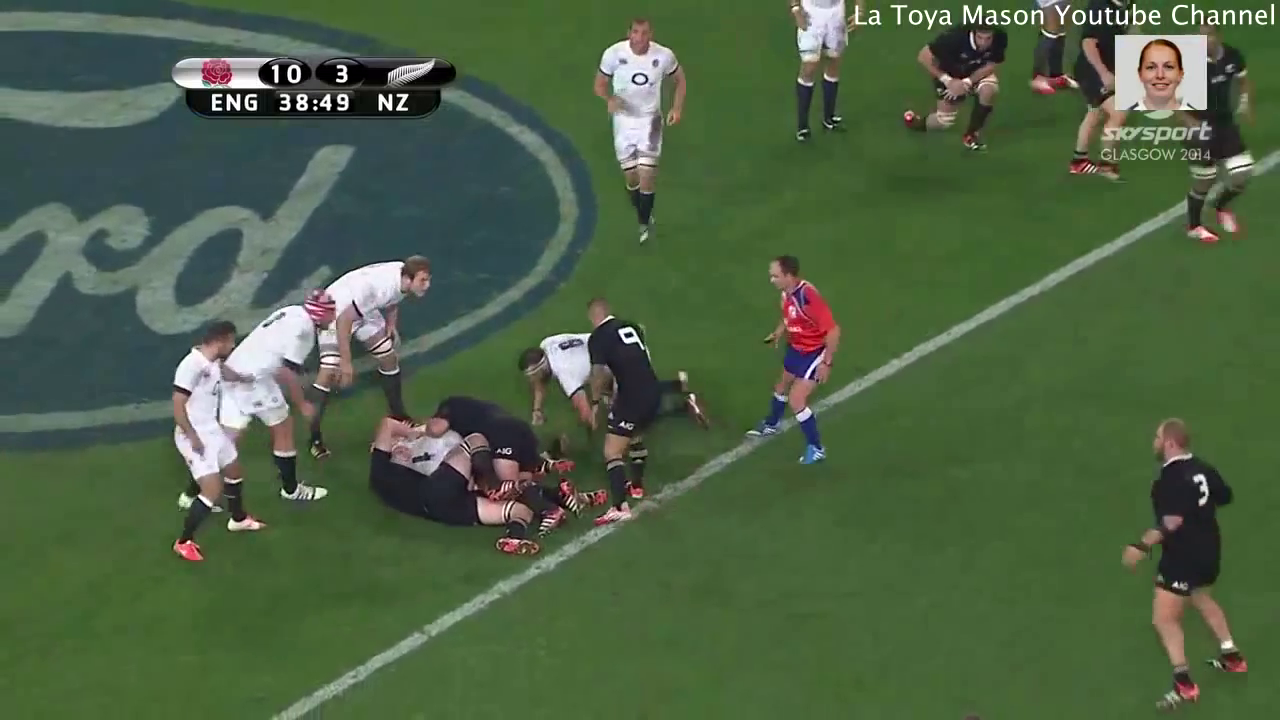player: (1111, 410, 1256, 715), (591, 17, 697, 250), (155, 314, 260, 547), (225, 280, 332, 506), (320, 245, 445, 420), (743, 250, 842, 468), (579, 299, 664, 517), (909, 26, 1022, 151), (362, 444, 516, 534), (786, 1, 856, 152), (504, 315, 587, 408), (440, 393, 544, 456)
ruck: (358, 386, 586, 561)
